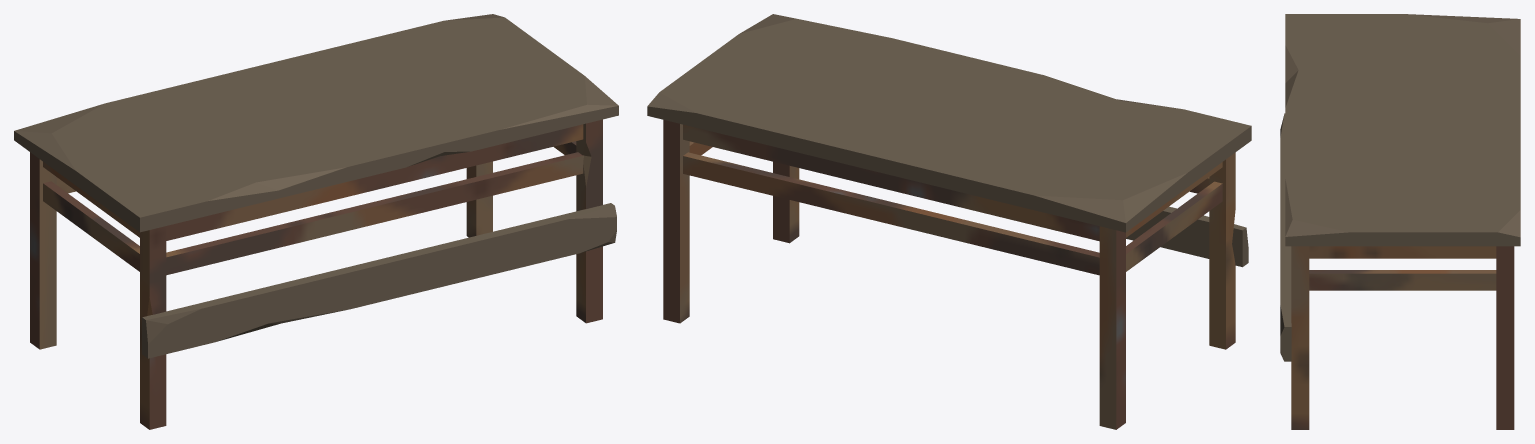
File: SM_Prop_Table_02.glb
The picture shows the model from 3 angles, left to right: view 1: azimuth 30°, elevation 25°; view 2: azimuth 150°, elevation 25°; view 3: azimuth 270°, elevation 25°; orthographic projection. The views are drawn at different scales.
Visible parts, largest first — view 1: SM_Prop_Table_02; view 2: SM_Prop_Table_02; view 3: SM_Prop_Table_02.
Part boxes in pixels (bbox=[...]): SM_Prop_Table_02: bbox=[14, 14, 618, 429]; SM_Prop_Table_02: bbox=[647, 14, 1251, 429]; SM_Prop_Table_02: bbox=[1280, 14, 1520, 429].
Size of the model in its own units: 2.01 by 0.8724 by 0.9329.
1 material, 1 textured.
